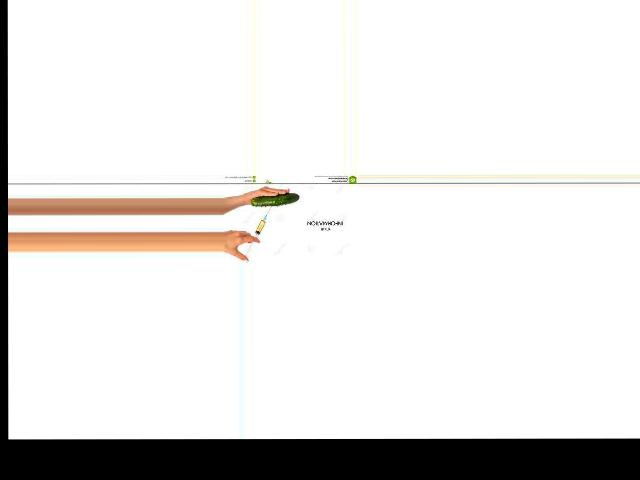cucumber: (250, 192, 299, 205)
